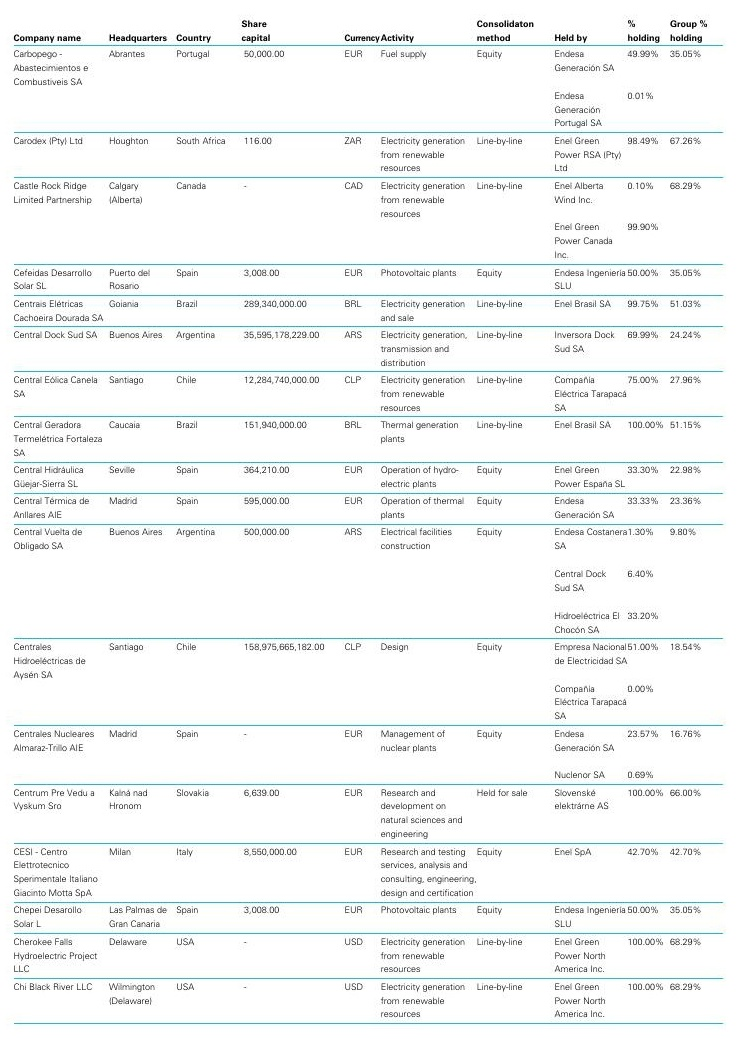table: (0, 0, 737, 1039)
